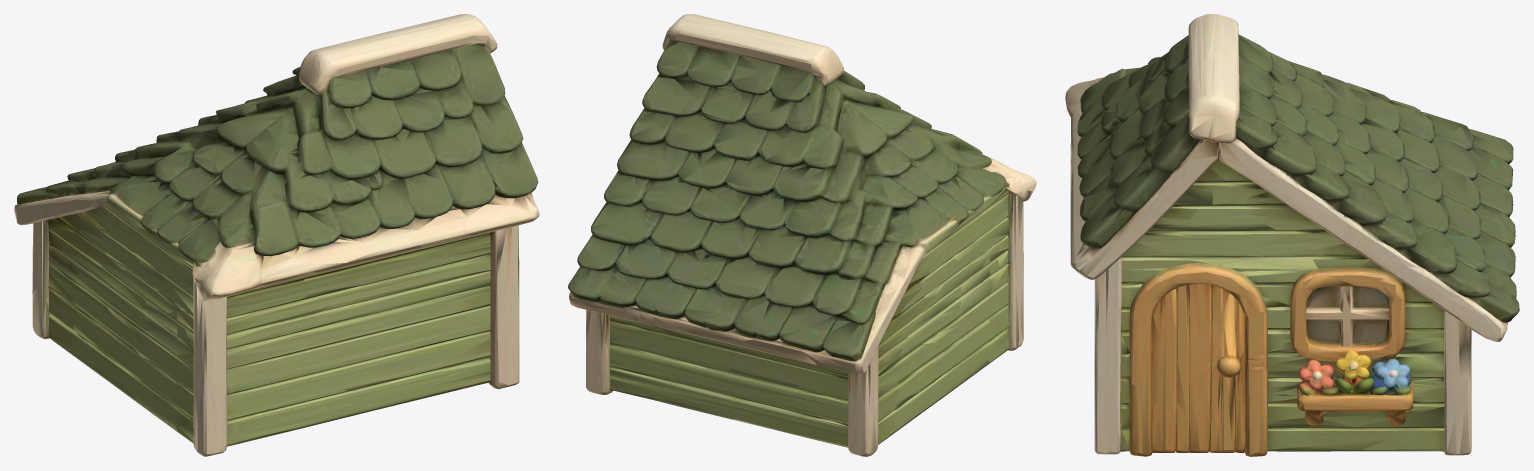
The picture shows the model from 3 angles, left to right: view 1: azimuth 30°, elevation 25°; view 2: azimuth 150°, elevation 25°; view 3: azimuth 270°, elevation 25°; orthographic projection. The views are drawn at different scales.
Visible parts, largest first — view 1: F13b-house-sage; view 2: F13b-house-sage; view 3: F13b-house-sage.
Part boxes in pixels (<box>): F13b-house-sage: <box>14,14,539,456</box>; F13b-house-sage: <box>568,14,1036,456</box>; F13b-house-sage: <box>1065,14,1519,456</box>.
Bounding box in the file's own units: 4.81 × 4.4 × 4.97.
Materials: 1 (1 with a texture image).
